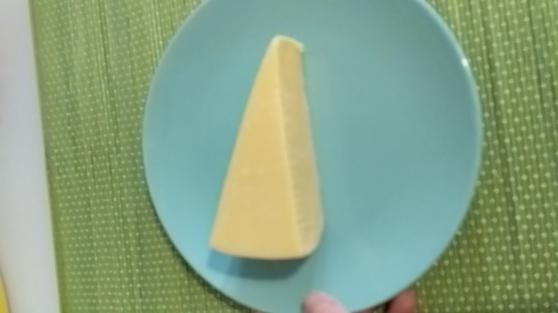cheese: (207, 35, 325, 260)
